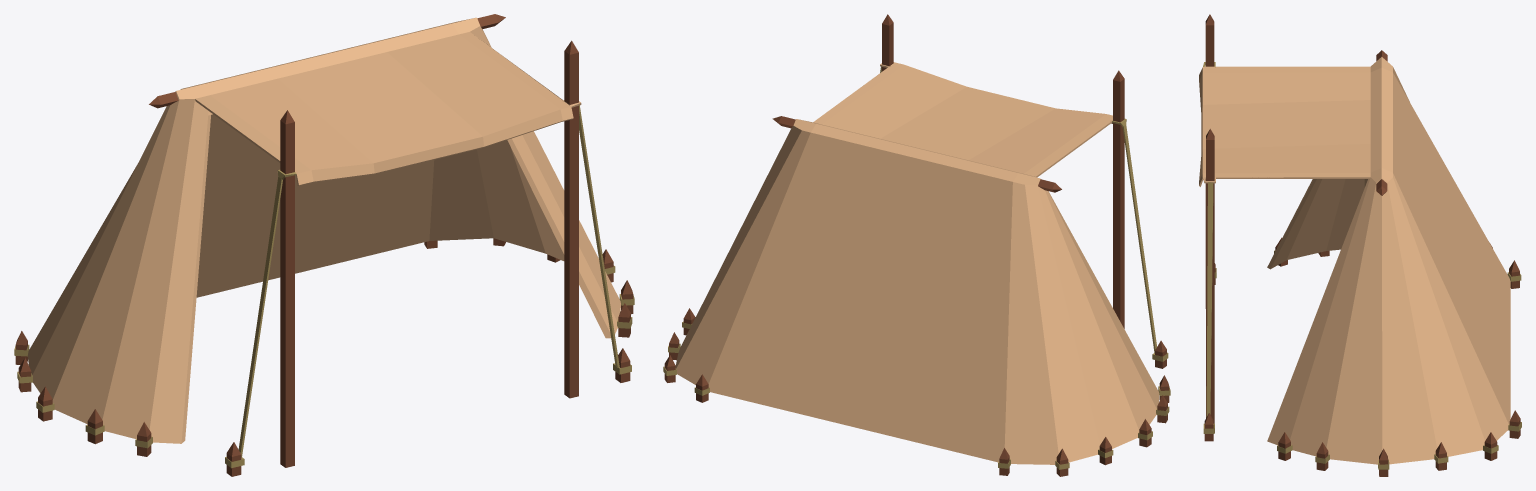
File: tent_cone.fbx
3 renders of one model, left to right at view 1: azimuth 30°, elevation 25°; view 2: azimuth 150°, elevation 25°; view 3: azimuth 270°, elevation 25°, orthographic. The views are drawn at different scales.
Parts seen in each view (by area): view 1: tent_cone; view 2: tent_cone; view 3: tent_cone.
Boxes of the visible parts, x1=… form: tent_cone: x1=14, y1=14, x2=634, y2=476; tent_cone: x1=663, y1=14, x2=1170, y2=476; tent_cone: x1=1199, y1=14, x2=1521, y2=476.
Bounding box in the file's own units: 220 × 130 × 130.
